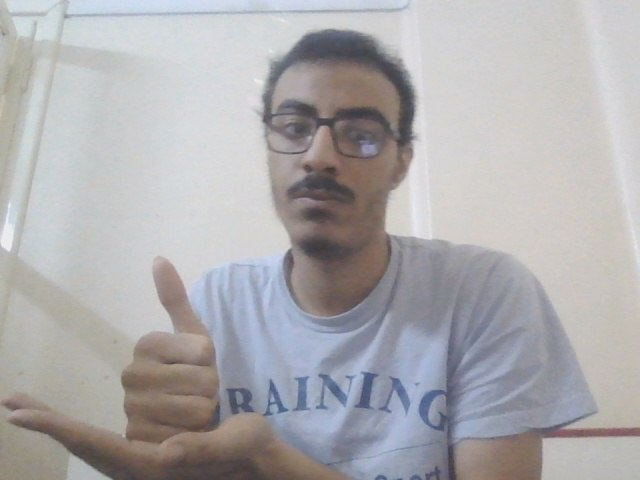Help: (1, 250, 278, 480)
